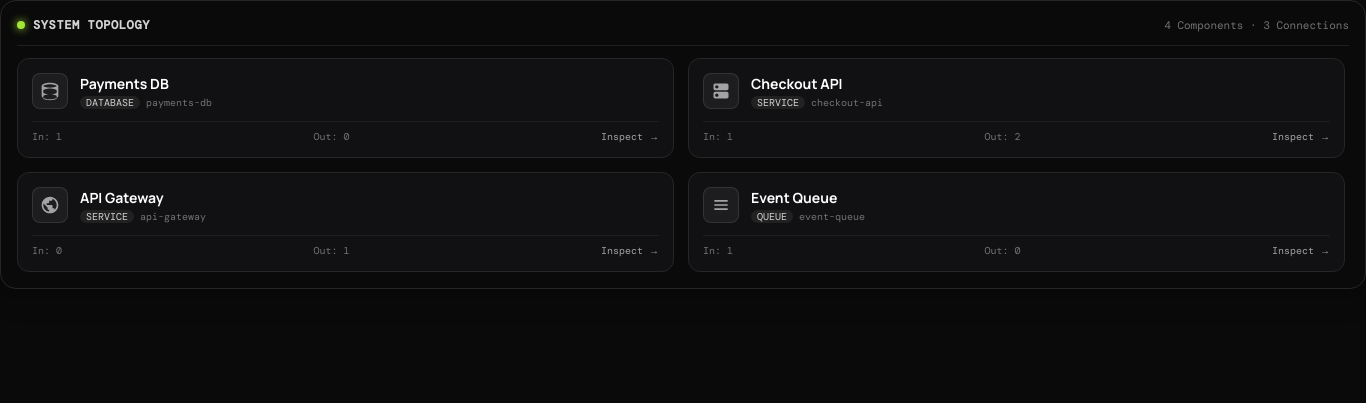
Test case: Topology Component › displays node inspection details when a card is clicked
Click the text "Payments DB" at (124, 83), box [80,74,169,92]
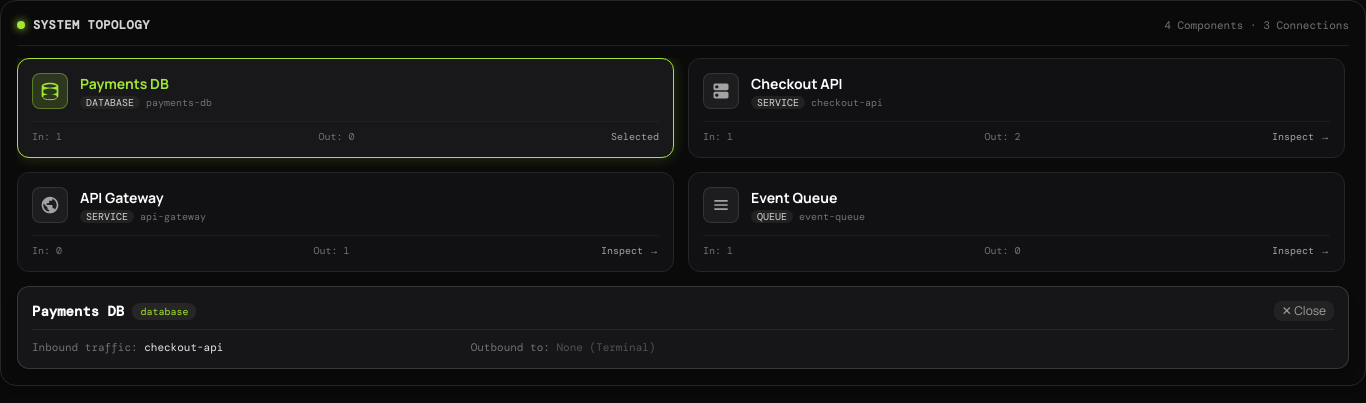
Expected: the button "✕ Close" is shown, [1274,301,1334,321]
Expected: the text "Inbound traffic:" is shown, [32,340,144,354]
